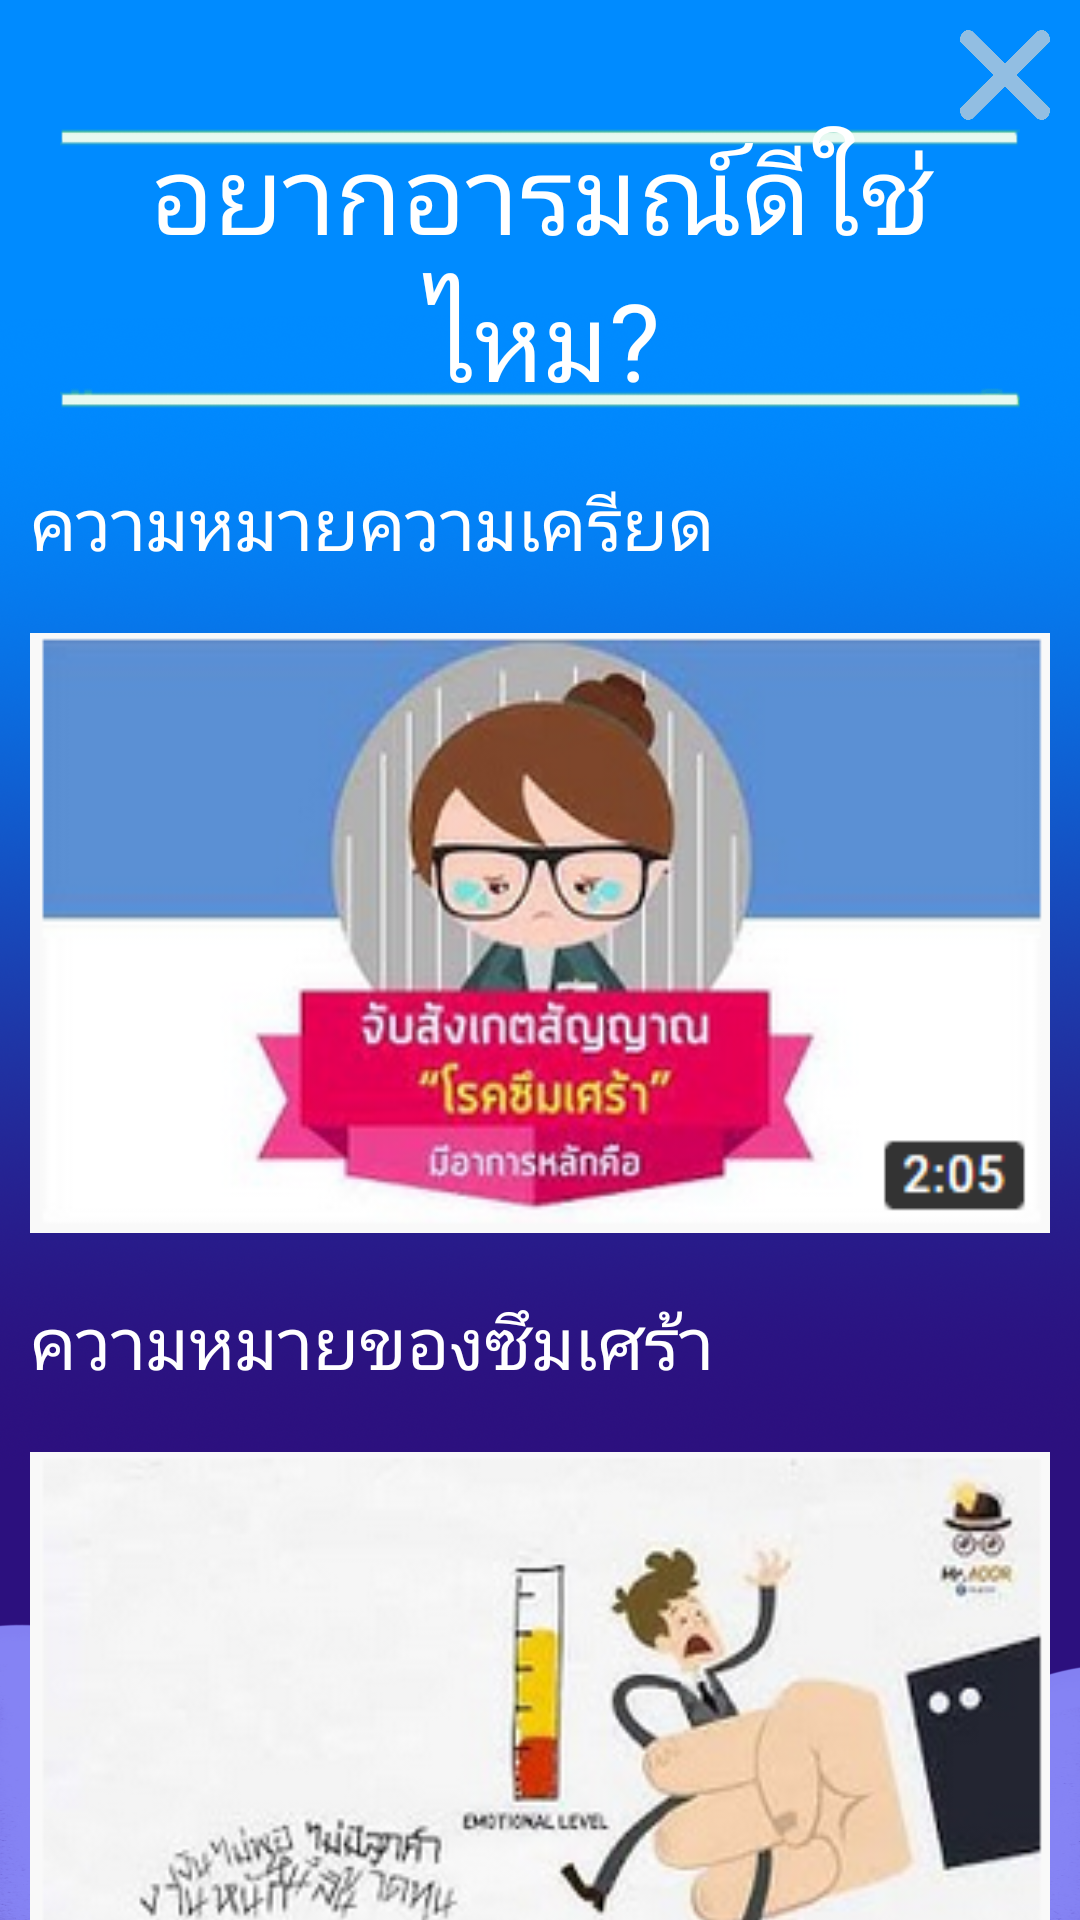

Point at icon controls on the screen. Image size 1080 × 1920, points as (x=x, y=y).
exit: (x=1005, y=75)
